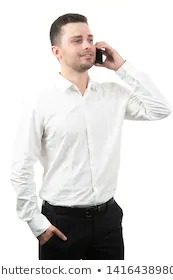F_belt: (41, 203, 119, 217)
F_dress pants: (36, 196, 128, 261)
F_shirt: (7, 65, 173, 232)
